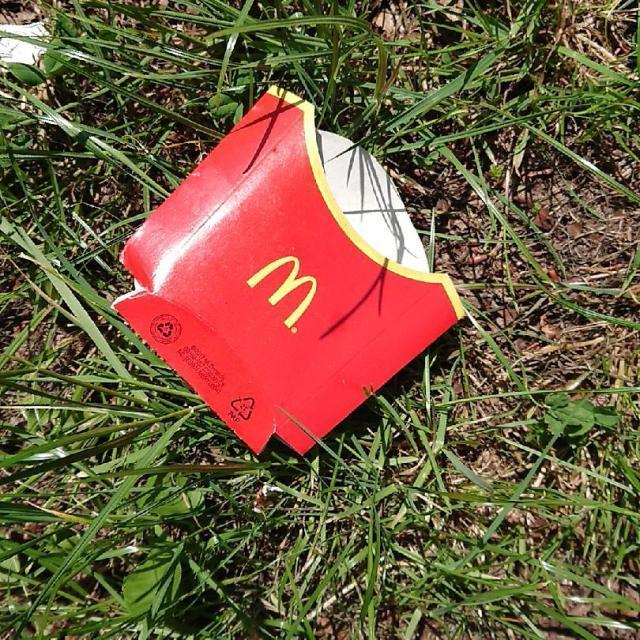Paper: (108, 81, 466, 461)
